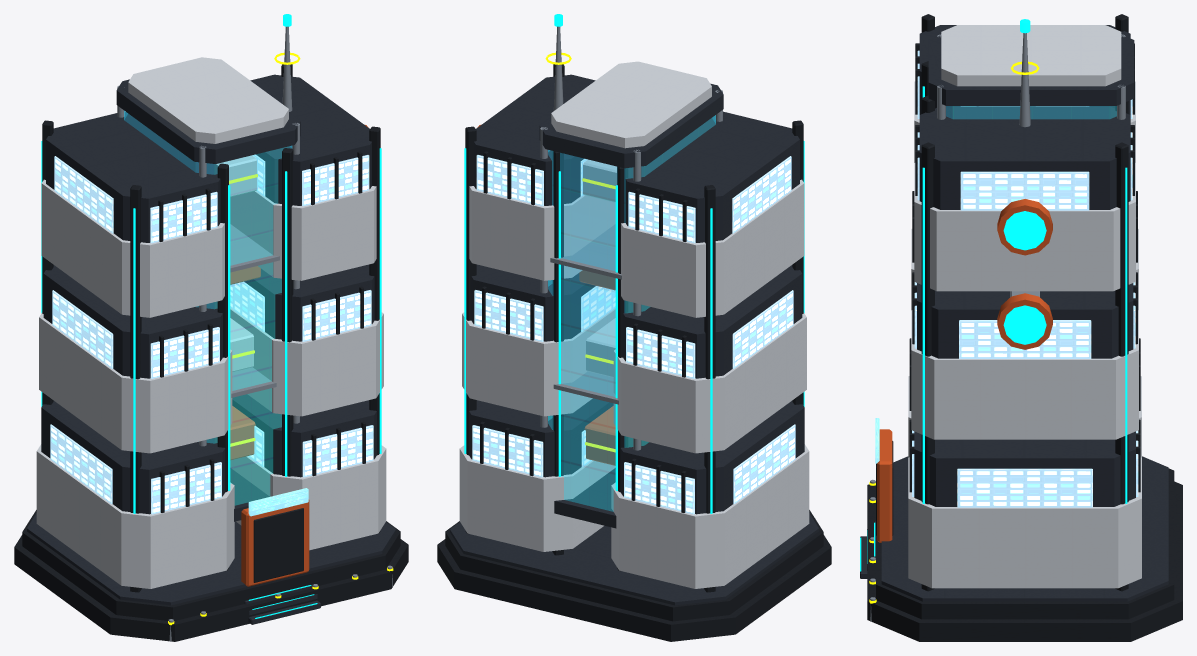
File: bldg_14_r1_03.glb
3 views of the same model, side by side, from view 1: azimuth 30°, elevation 25°; view 2: azimuth 150°, elevation 25°; view 3: azimuth 270°, elevation 25° (orthographic). The views are drawn at different scales.
Parts seen in each view (by area): view 1: Bldg14_C03_aero_white, Bldg14_C03_carbon_slate, Bldg14_C03_gunmetal, Bldg14_C03_window_lit, Bldg14_C03_glass_cyan, Bldg14_C03_led_cyan, Bldg14_C03_steel_machined, Bldg14_C03_accent_orange, Bldg14_C03_marquee, Bldg14_C03_led_amber; view 2: Bldg14_C03_aero_white, Bldg14_C03_carbon_slate, Bldg14_C03_gunmetal, Bldg14_C03_window_lit, Bldg14_C03_glass_cyan, Bldg14_C03_steel_machined, Bldg14_C03_led_cyan, Bldg14_C03_accent_orange; view 3: Bldg14_C03_aero_white, Bldg14_C03_carbon_slate, Bldg14_C03_gunmetal, Bldg14_C03_window_lit, Bldg14_C03_led_cyan, Bldg14_C03_accent_orange, Bldg14_C03_glass_cyan, Bldg14_C03_steel_machined.
Part boxes in pixels (x1,y1,x2,y2): Bldg14_C03_aero_white: (36,57,386,588); Bldg14_C03_carbon_slate: (27,74,395,624); Bldg14_C03_gunmetal: (14,64,408,641); Bldg14_C03_window_lit: (50,154,373,514); Bldg14_C03_glass_cyan: (124,110,292,505); Bldg14_C03_led_cyan: (41,14,381,618); Bldg14_C03_steel_machined: (117,26,392,641); Bldg14_C03_accent_orange: (230,125,368,586); Bldg14_C03_marquee: (248,488,308,516); Bldg14_C03_led_amber: (168,52,393,625); Bldg14_C03_aero_white: (459,61,809,588); Bldg14_C03_carbon_slate: (450,74,818,605); Bldg14_C03_gunmetal: (437,64,831,641); Bldg14_C03_window_lit: (472,155,795,514); Bldg14_C03_glass_cyan: (548,115,715,511); Bldg14_C03_steel_machined: (540,26,815,518); Bldg14_C03_led_cyan: (464,14,804,513); Bldg14_C03_accent_orange: (477,125,615,465); Bldg14_C03_aero_white: (908,25,1141,588); Bldg14_C03_carbon_slate: (860,25,1168,601); Bldg14_C03_gunmetal: (867,14,1182,641); Bldg14_C03_window_lit: (912,50,1138,507); Bldg14_C03_led_cyan: (860,19,1127,571); Bldg14_C03_accent_orange: (877,199,1052,542); Bldg14_C03_glass_cyan: (946,106,1116,118); Bldg14_C03_steel_machined: (870,33,1125,621).
Bounding box in the file's own units: 12.29 × 20.32 × 10.23.
10 materials, 10 textured.
